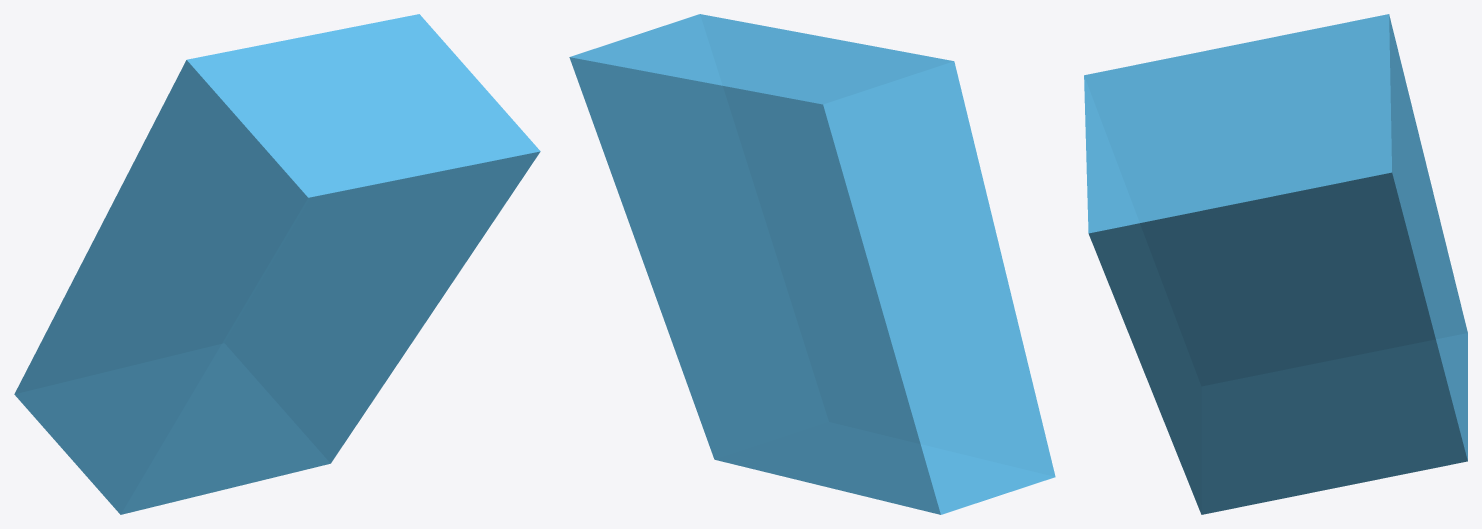
File: Event_421115418_HBrechit_27.fbx
The picture shows the model from 3 angles, left to right: view 1: azimuth 30°, elevation 25°; view 2: azimuth 150°, elevation 25°; view 3: azimuth 270°, elevation 25°; orthographic projection. The views are drawn at different scales.
Visible parts, largest first — view 1: Model; view 2: Model; view 3: Model.
Part boxes in pixels (box(x1,y1,x2,y2)): Model: box(14, 14, 540, 514); Model: box(569, 14, 1055, 514); Model: box(1084, 14, 1467, 514).
Bounding box in the file's own units: 0.7983 × 0.7447 × 0.565.
